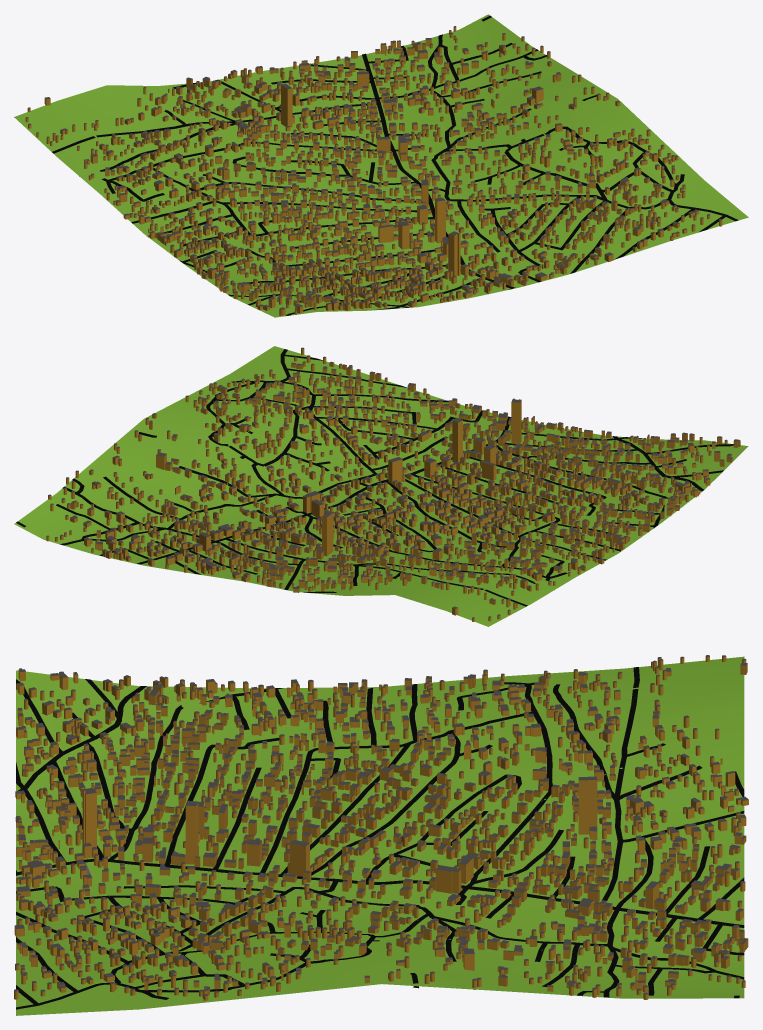
File: tile_09_06.glb
The picture shows the model from 3 angles, top to bottom: view 1: azimuth 30°, elevation 25°; view 2: azimuth 150°, elevation 25°; view 3: azimuth 270°, elevation 25°; orthographic projection. The views are drawn at different scales.
Visible parts, largest first — view 1: Terrain_09_06, Ub_small.osm_buildings_09_06, Ub_small.osm_roads_residential_09_06, Ub_small.osm_roads_secondary_09_06; view 2: Ub_small.osm_buildings_09_06, Terrain_09_06, Ub_small.osm_roads_residential_09_06, Ub_small.osm_roads_secondary_09_06; view 3: Terrain_09_06, Ub_small.osm_buildings_09_06, Ub_small.osm_roads_residential_09_06, Ub_small.osm_roads_secondary_09_06.
Boxes of the visible parts, <box> form: Terrain_09_06: <box>14,14,748,317</box>; Ub_small.osm_buildings_09_06: <box>25,26,722,315</box>; Ub_small.osm_roads_residential_09_06: <box>14,15,738,315</box>; Ub_small.osm_roads_secondary_09_06: <box>362,53,515,288</box>; Ub_small.osm_buildings_09_06: <box>46,347,740,621</box>; Terrain_09_06: <box>14,346,748,626</box>; Ub_small.osm_roads_residential_09_06: <box>16,349,733,606</box>; Ub_small.osm_roads_secondary_09_06: <box>137,416,511,564</box>; Terrain_09_06: <box>16,656,744,1015</box>; Ub_small.osm_buildings_09_06: <box>14,655,748,1000</box>; Ub_small.osm_roads_residential_09_06: <box>16,667,744,1009</box>; Ub_small.osm_roads_secondary_09_06: <box>16,858,744,927</box>.
Bounding box in the file's own units: 985 × 115 × 939.
